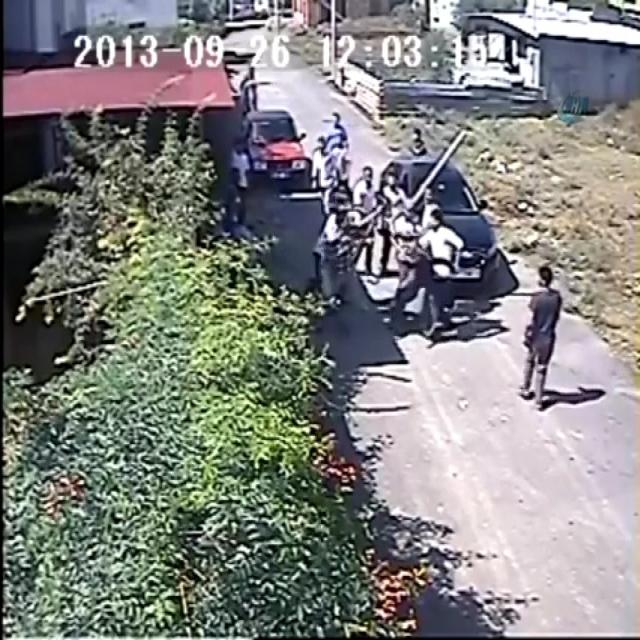fight: (311, 145, 484, 341)
